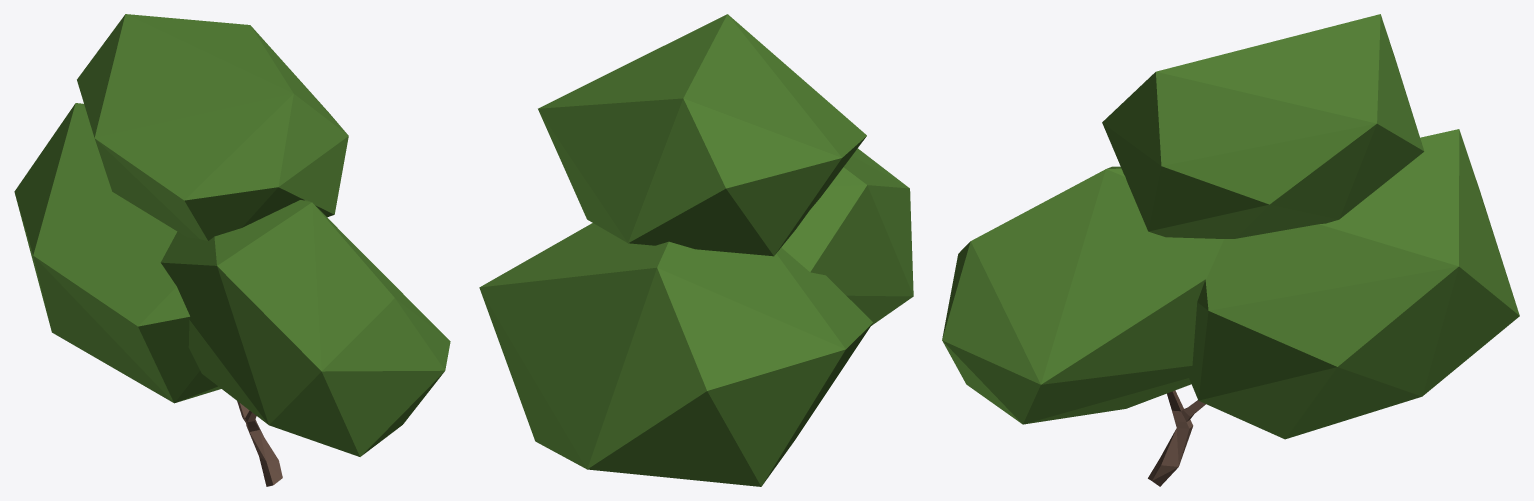
Rendered from Kustik_green2.fbx.
3 renders of one model, left to right at view 1: azimuth 30°, elevation 25°; view 2: azimuth 150°, elevation 25°; view 3: azimuth 270°, elevation 25°, orthographic. The views are drawn at different scales.
Parts seen in each view (by area): view 1: Kustik_green2; view 2: Kustik_green2; view 3: Kustik_green2.
Part boxes in pixels (box(x1,y1,x2,y2)): Kustik_green2: box(14, 14, 450, 486); Kustik_green2: box(479, 14, 913, 486); Kustik_green2: box(942, 14, 1519, 486).
Bounding box in the file's own units: 78.91 × 108 × 127.
